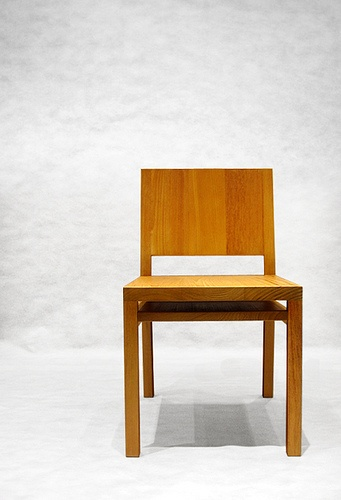obstacle: (123, 169, 301, 456)
